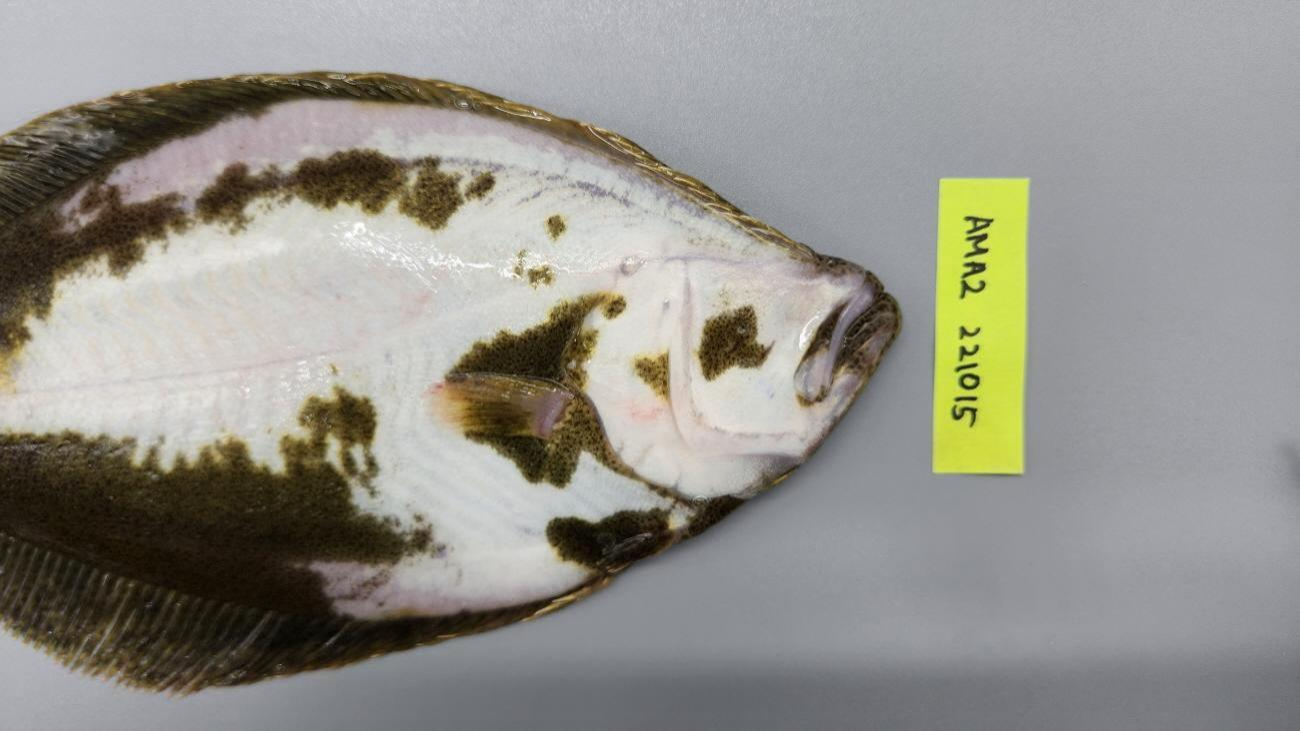MAFAH: (3, 533, 590, 691)
MAFDH: (3, 69, 814, 253)
